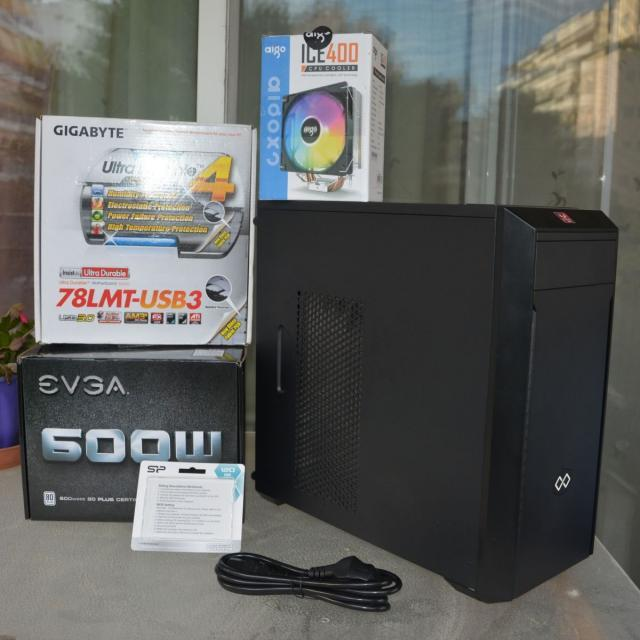Desktop-PC: (250, 204, 628, 600)
